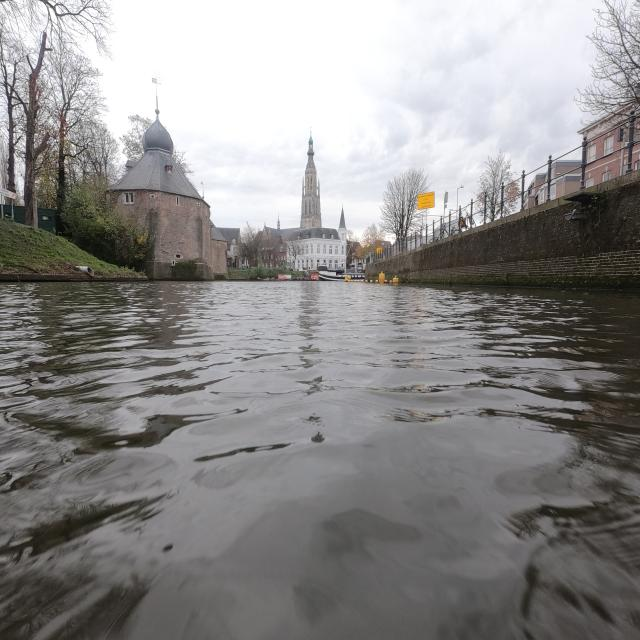grass: (0, 219, 141, 277)
sky: (104, 4, 596, 230)
tree: (61, 181, 148, 268)
wall: (368, 176, 638, 286)
water: (10, 290, 638, 634)
